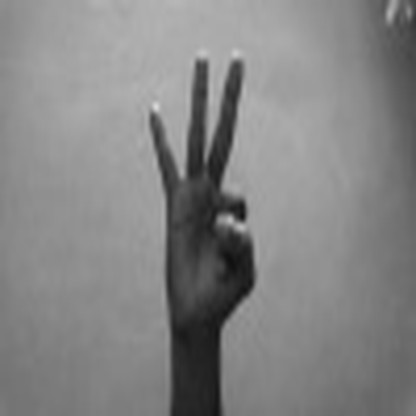f: (132, 40, 274, 316)
